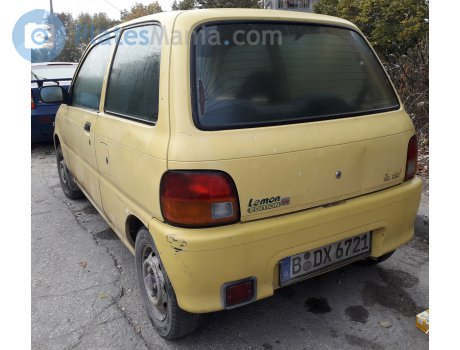License Plates: (281, 239, 376, 271)
